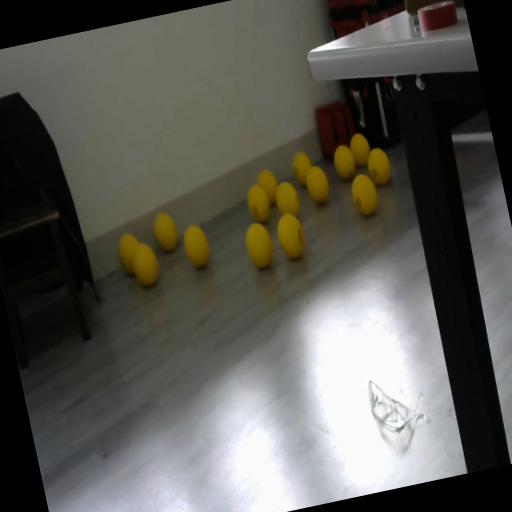FUEL: (240, 218, 277, 272), (272, 208, 308, 262), (178, 220, 212, 270), (348, 170, 380, 217), (113, 230, 145, 276), (363, 144, 394, 188), (272, 178, 302, 222), (302, 162, 332, 206), (150, 210, 180, 253), (330, 141, 358, 182), (254, 166, 282, 206), (346, 129, 374, 169)
